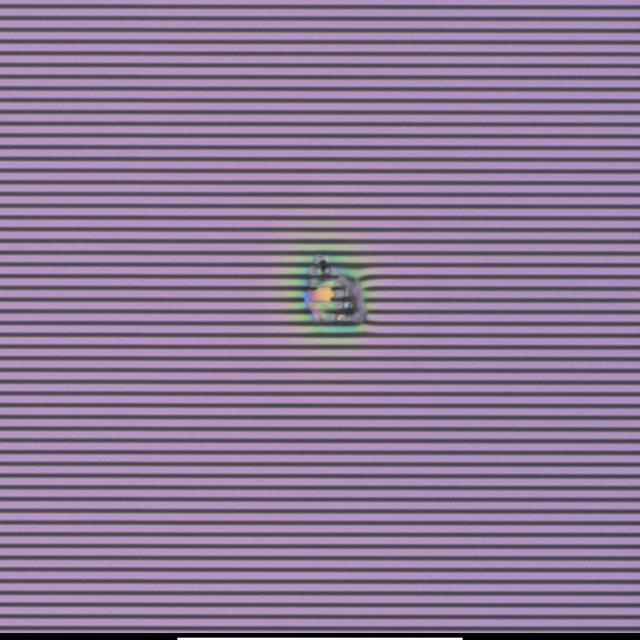03_intrusion: (302, 256, 368, 330)
